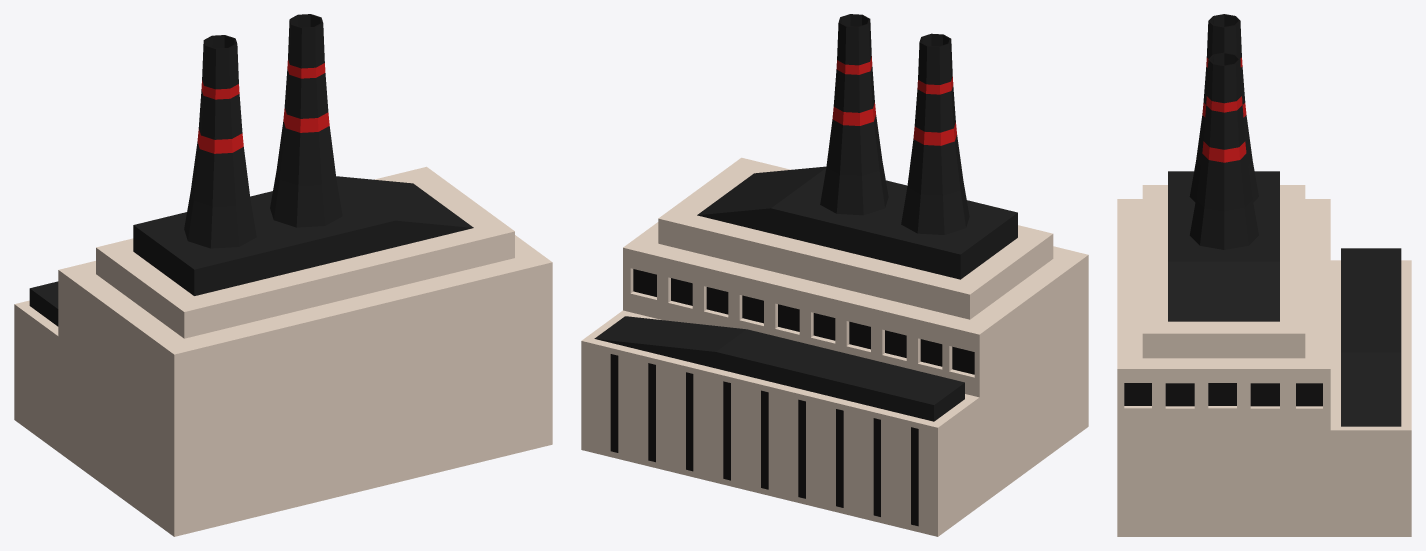
File: factory.FBX
3 renders of one model, left to right at view 1: azimuth 30°, elevation 25°; view 2: azimuth 150°, elevation 25°; view 3: azimuth 270°, elevation 25°, orthographic. The views are drawn at different scales.
Parts seen in each view (by area): view 1: factory; view 2: factory; view 3: factory.
Boxes of the visible parts, x1,y1,x2,y2 form: factory: [14, 14, 552, 536]; factory: [581, 14, 1088, 536]; factory: [1117, 14, 1411, 536].
Size of the model in its own units: 130 by 140 by 95.1.
